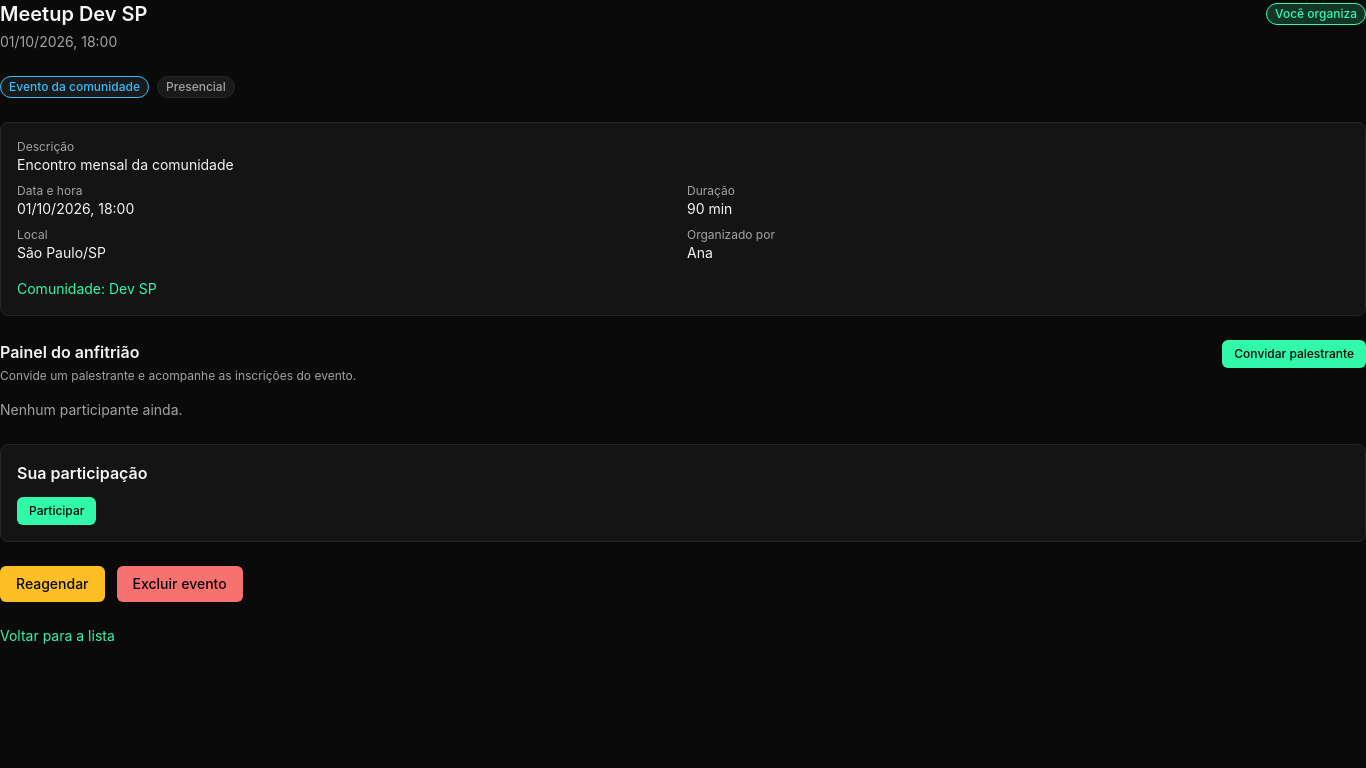
Test: EventDetailPage › erro inesperado no delete mantém a tela com Alert
Click the button "Excluir evento" at (180, 584), box [116,566,243,602]
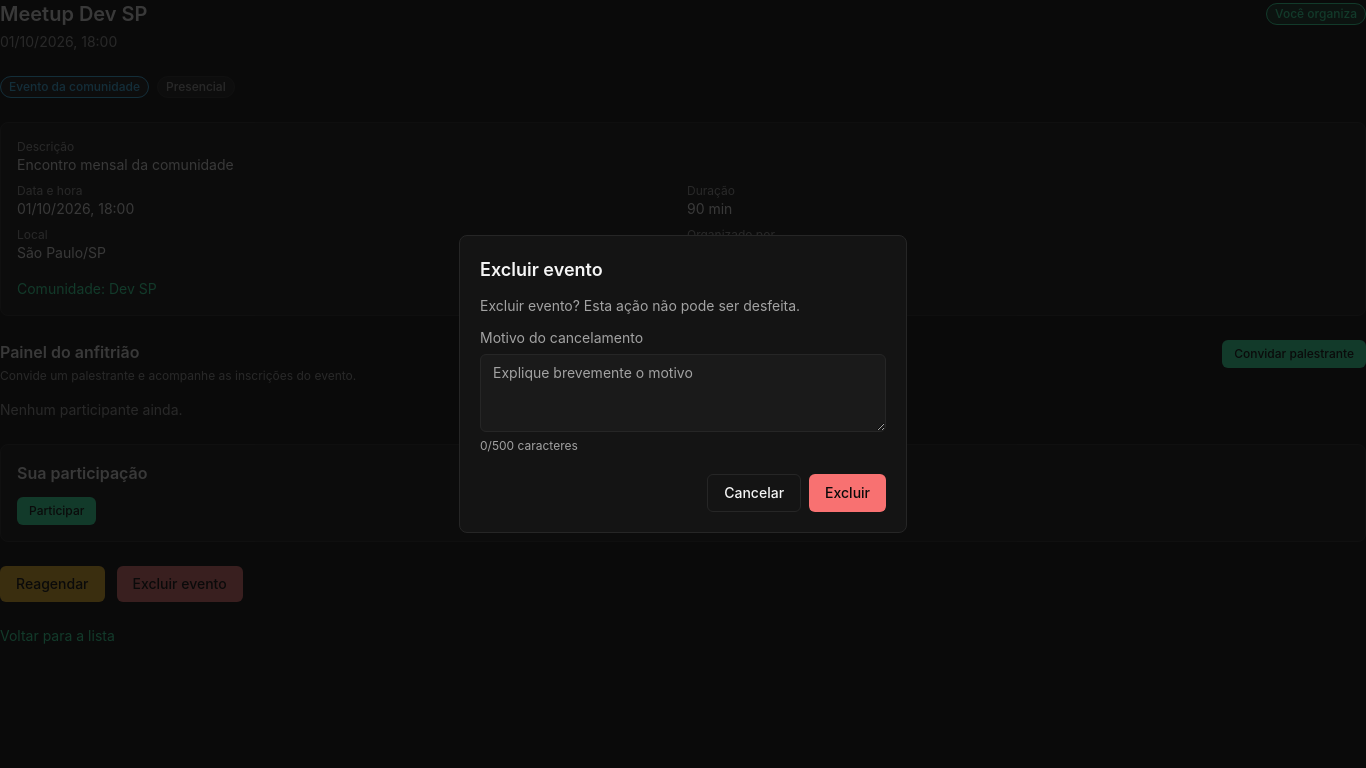
Type "Falha esperada" into the text box labelled "Motivo do cancelamento" at (683, 393), box [480,354,886,432]
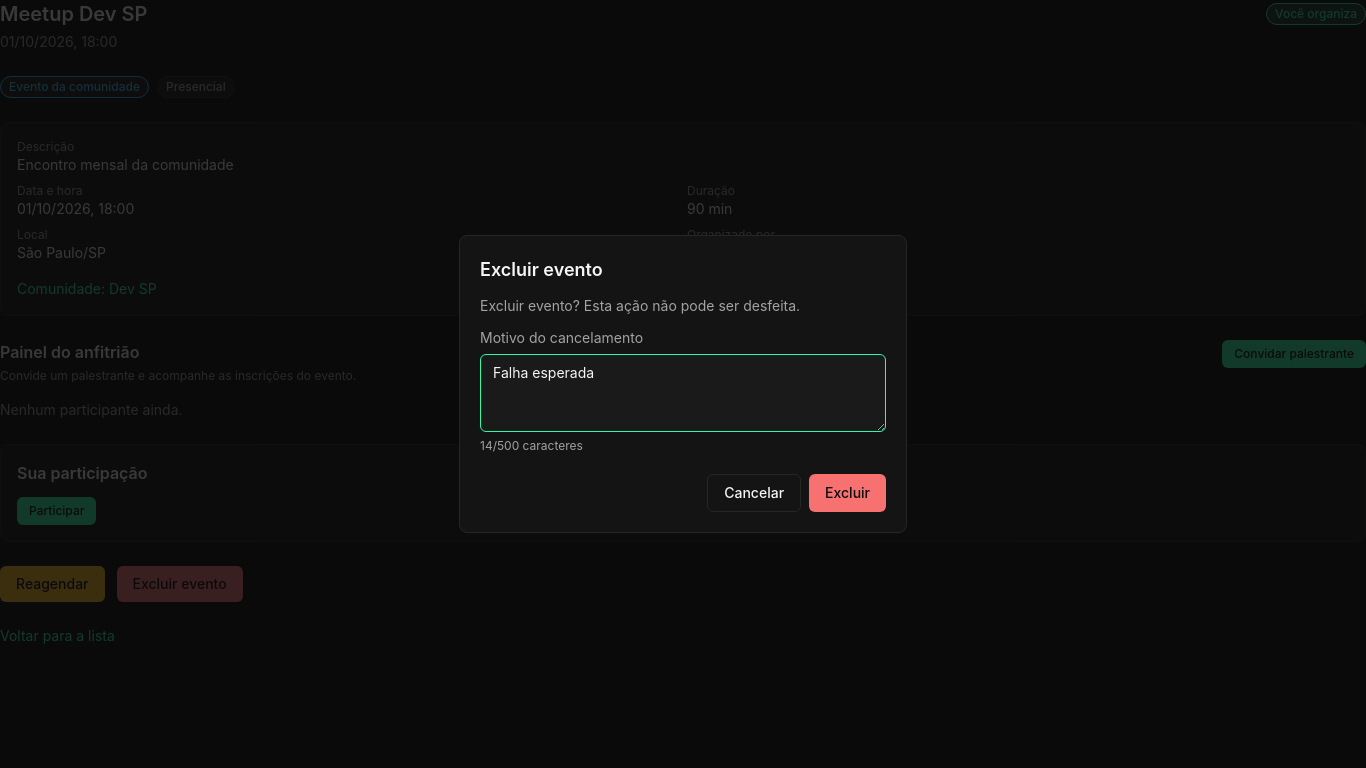
Click the button "Excluir" at (848, 493), box [809,474,886,512]
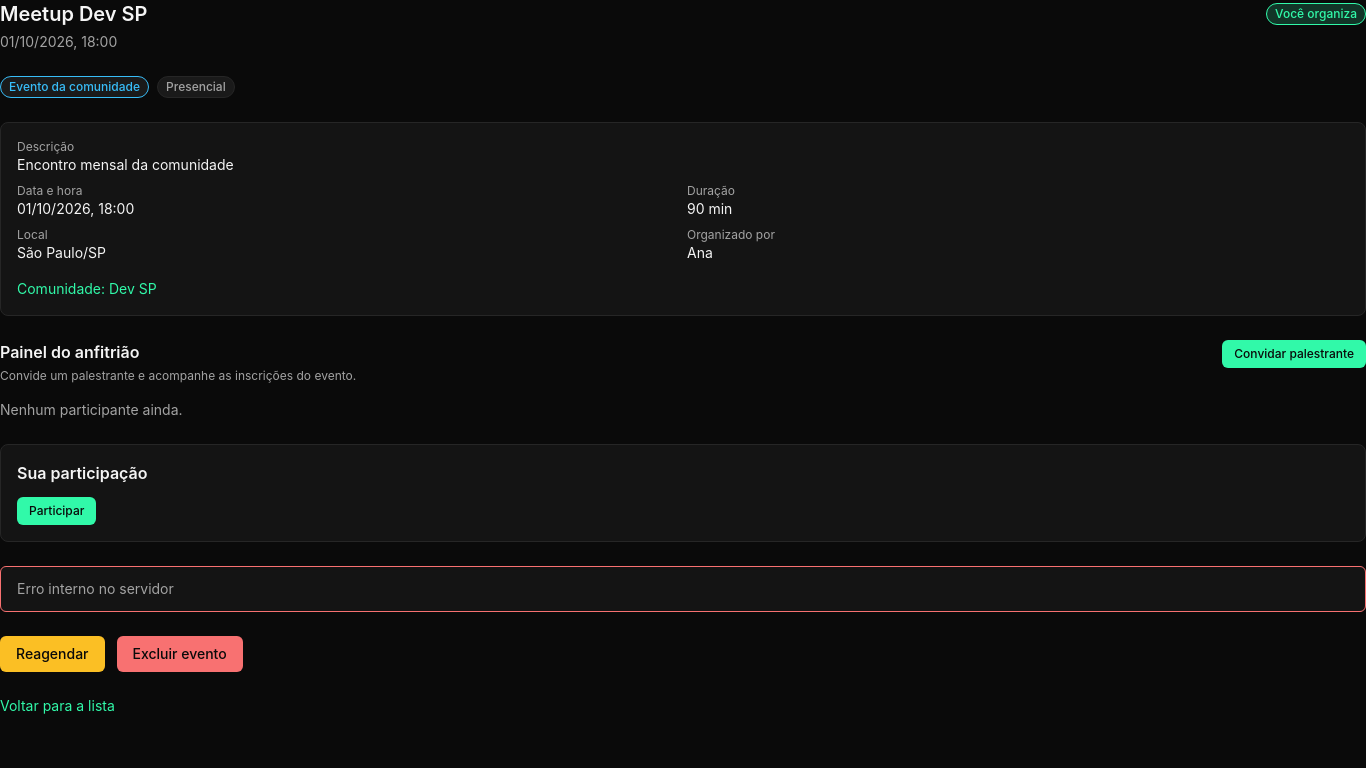
Expected: the heading "Meetup Dev SP" is shown, [0,0,148,28]
Expected: the text "Erro interno no servidor" is shown, [17,580,174,597]
